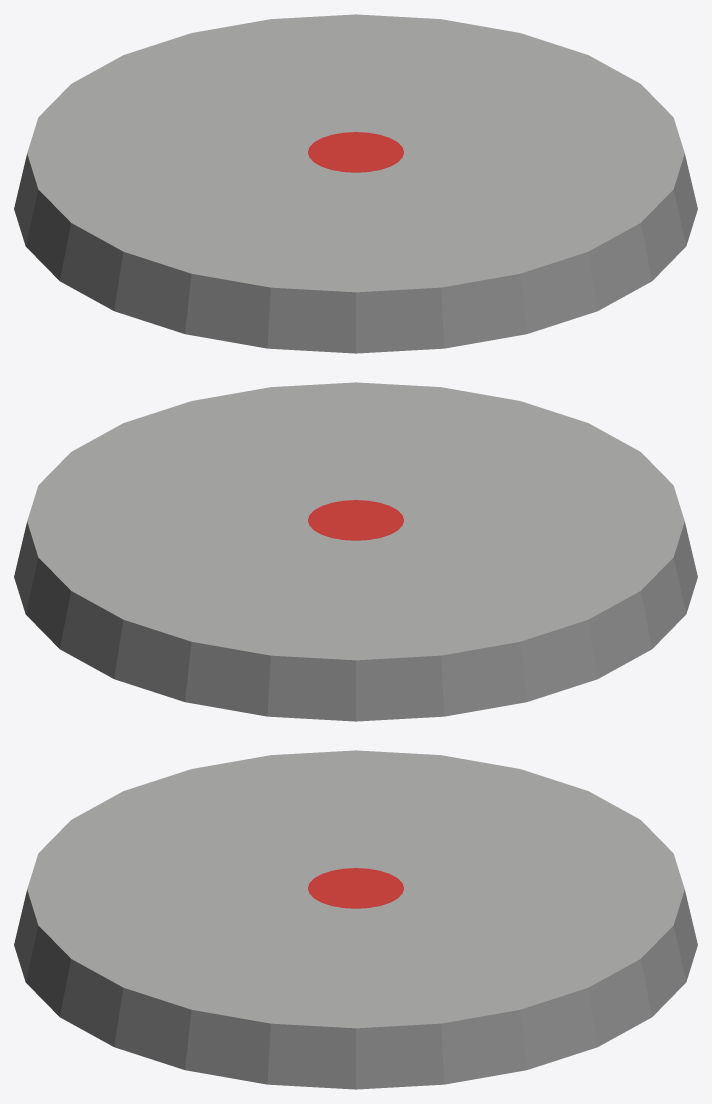
The model's file is SM_StartPad.glb.
3 views of the same model, one above another, from view 1: azimuth 30°, elevation 25°; view 2: azimuth 150°, elevation 25°; view 3: azimuth 270°, elevation 25° (orthographic).
Visible parts, largest first — view 1: SM_StartPad; view 2: SM_StartPad; view 3: SM_StartPad.
Boxes of the visible parts, x1,y1,x2,y2 form: SM_StartPad: (14, 14, 697, 353); SM_StartPad: (14, 382, 697, 721); SM_StartPad: (14, 750, 697, 1089).
Size of the model in its own units: 31.2 by 2.85 by 31.2.
1 material, 1 textured.
